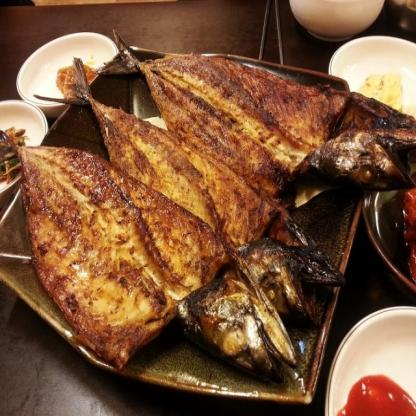Peixe: (0, 64, 416, 364)
